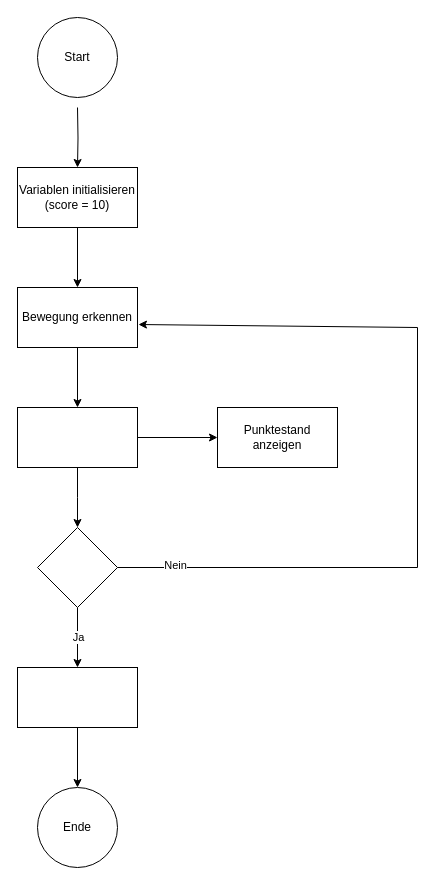
This 443x885 diagram has some shape labels left out. The shapes that lost their labels are listed below. From the top down, each one's box as (x1, y1, x2, y2) in pixels, then its label:
(16, 406, 138, 468): Punktestand verringern (score -= 1)
(36, 526, 118, 608): score <= 0
(16, 666, 138, 728): "Game Over" anzeigen
